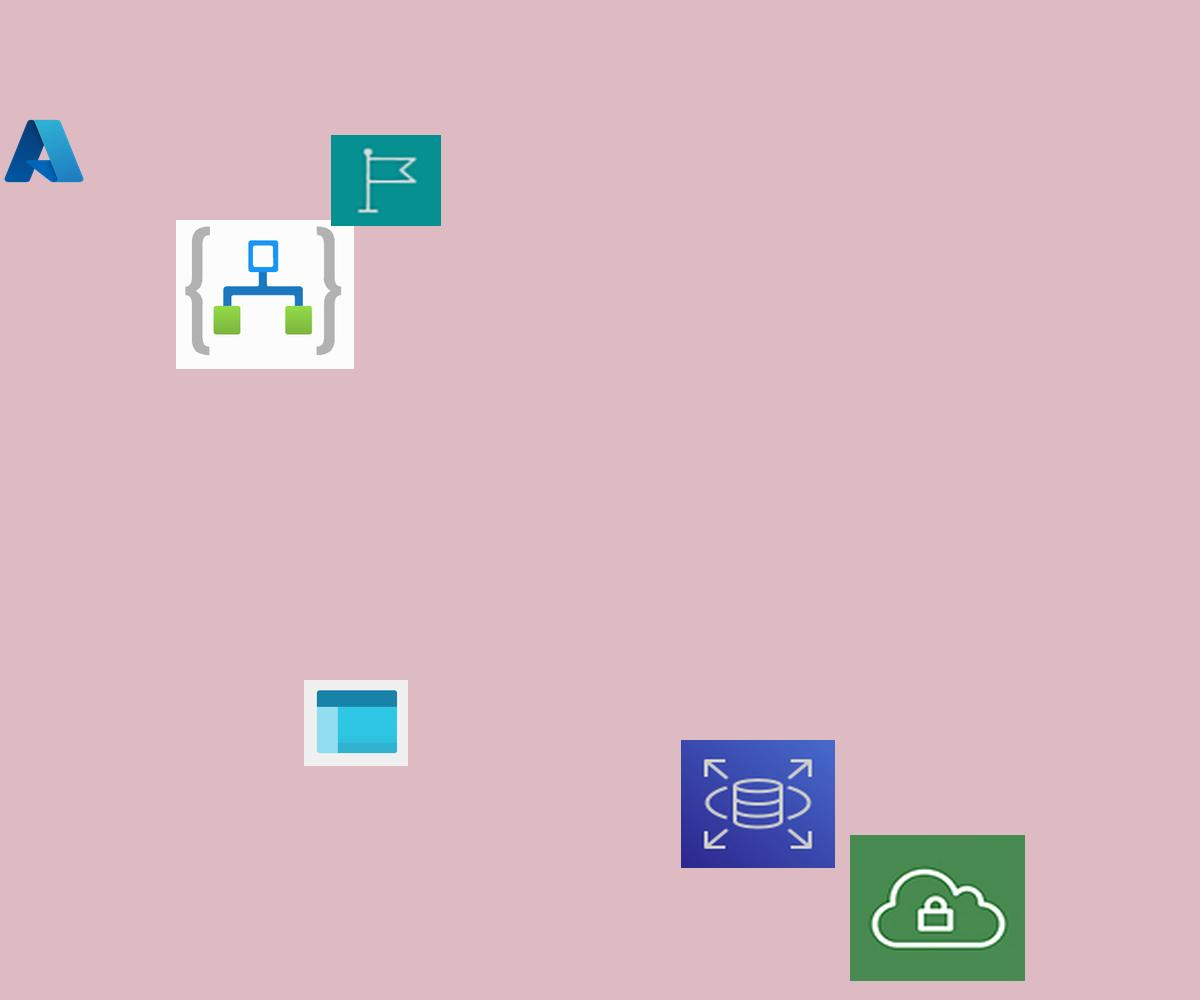AWS-Private_vpc: (850, 835, 1025, 981)
AWS-RDS: (681, 740, 835, 868)
AWS-Region: (331, 135, 441, 226)
Azure_integration-204-Logic-Apps: (176, 220, 354, 369)
Azure_management-portal: (304, 680, 408, 766)
Azure_services: (1, 115, 87, 187)
